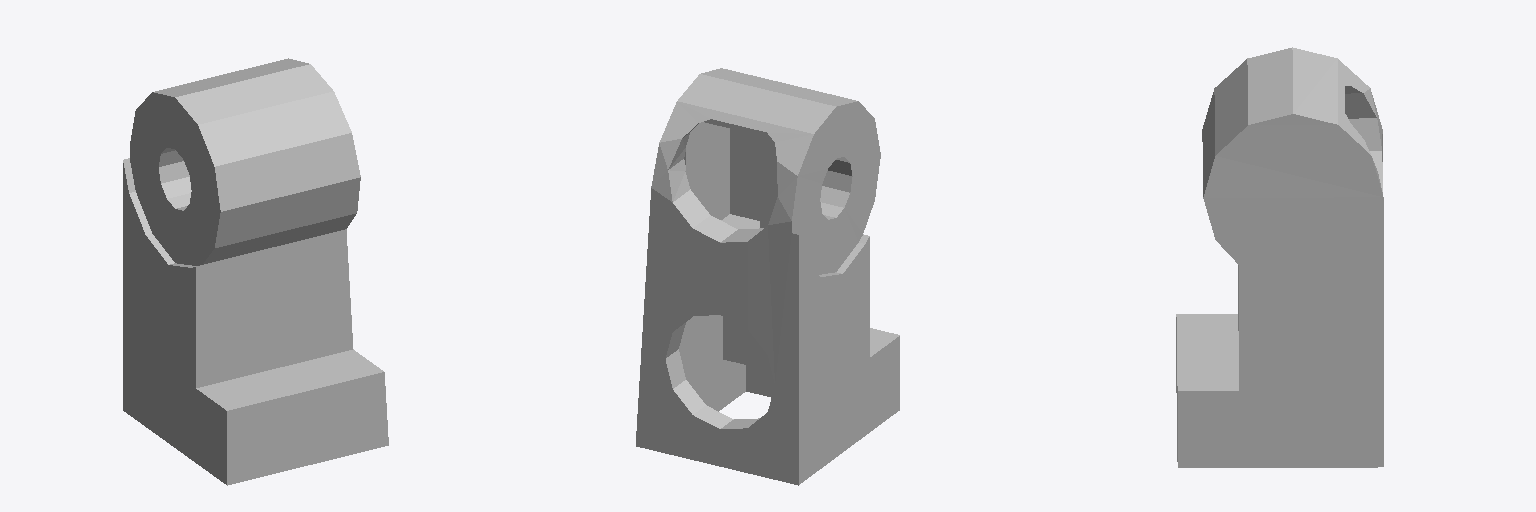
File: piernaDer.obj
3 views of the same model, side by side, from view 1: azimuth 30°, elevation 25°; view 2: azimuth 150°, elevation 25°; view 3: azimuth 270°, elevation 25° (orthographic).
Visible parts, largest first — view 1: piernaDer:polySurface56polySurface25; view 2: piernaDer:polySurface56polySurface25; view 3: piernaDer:polySurface56polySurface25.
Part boxes in pixels (x1,y1,x2,y2): piernaDer:polySurface56polySurface25: (123, 58, 388, 485); piernaDer:polySurface56polySurface25: (636, 68, 899, 485); piernaDer:polySurface56polySurface25: (1176, 47, 1383, 467).
Size of the model in its own units: 0.1111 by 0.2234 by 0.1218.